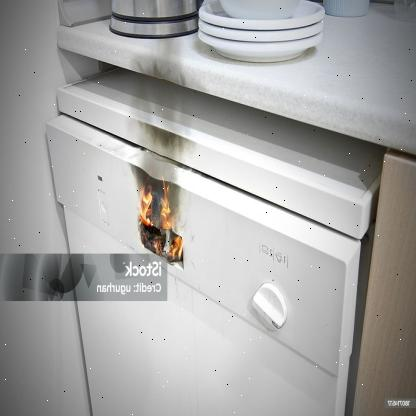fire: (136, 176, 184, 265)
smoke: (128, 34, 188, 229)
